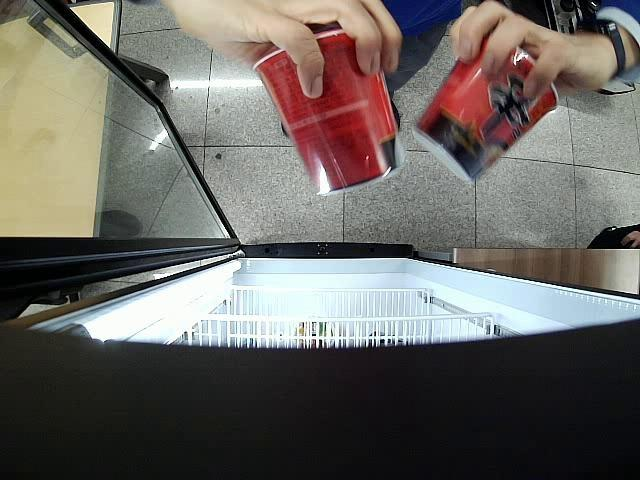02_shinRamen_S: (252, 36, 408, 196), (413, 34, 558, 183)
